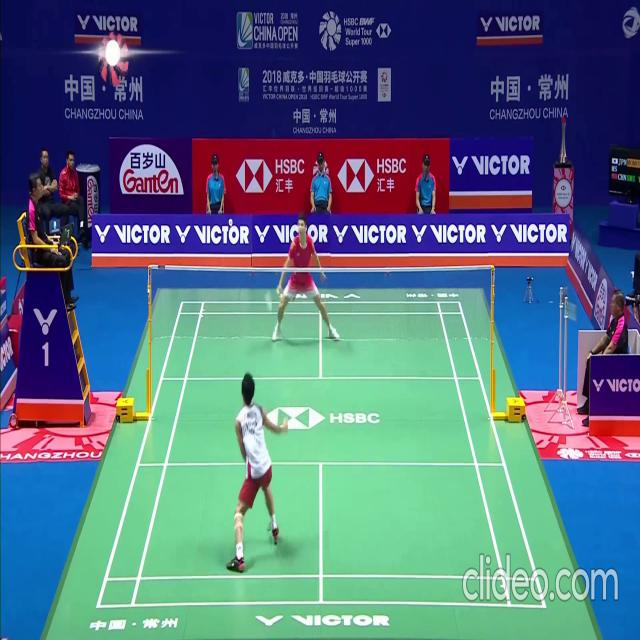Shuttlecock: (227, 218, 232, 226)
